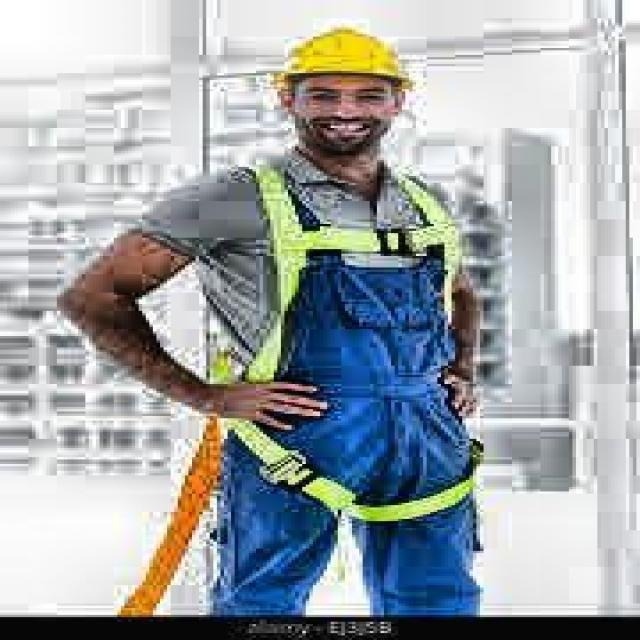Arnes_seguridad: (202, 153, 485, 527)
